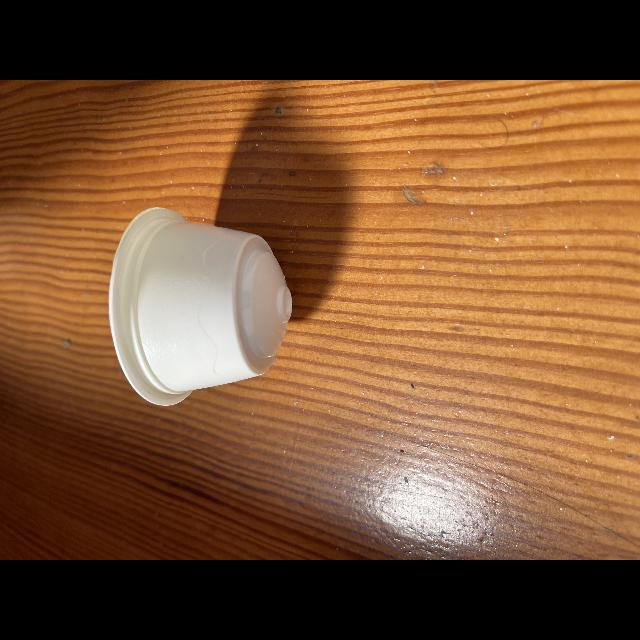intact_capsule: (94, 196, 314, 417)
